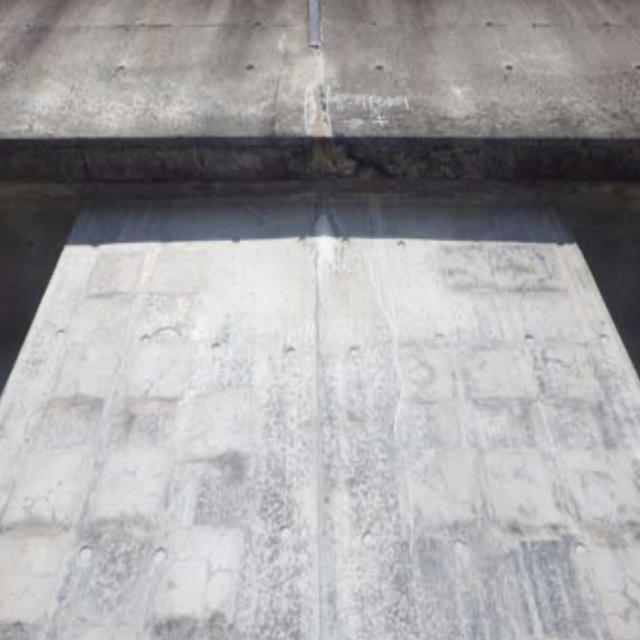freelime: (284, 45, 356, 148), (296, 207, 354, 274)
